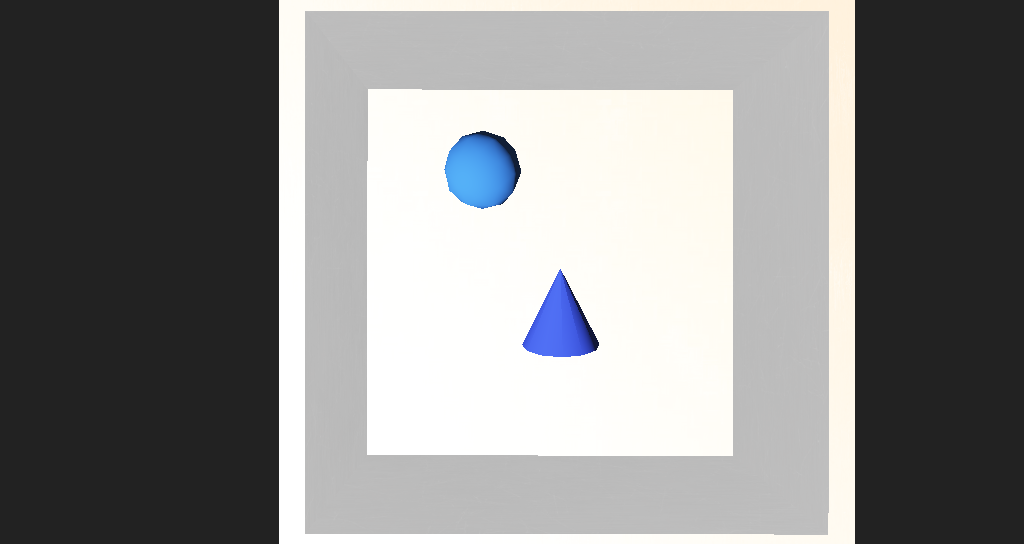cylinder: (478, 265, 546, 317)
sphere: (421, 188, 482, 231)
